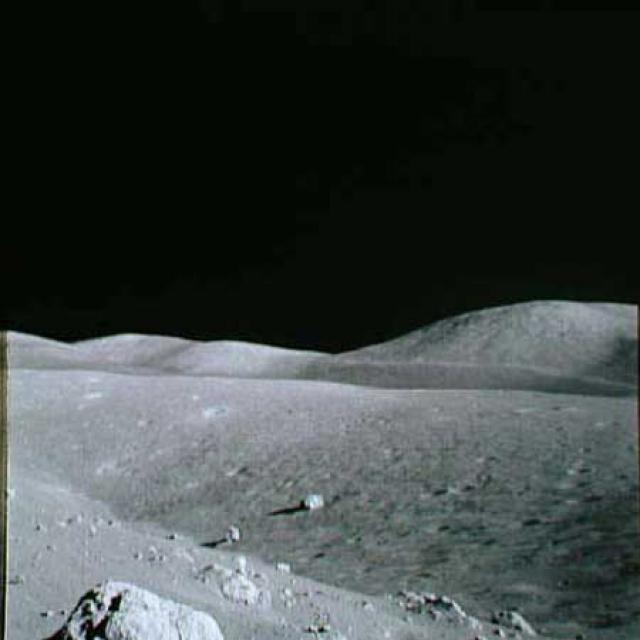rock: (47, 568, 226, 638), (388, 584, 482, 634), (211, 547, 272, 613), (488, 599, 533, 637), (300, 492, 330, 516), (226, 520, 244, 544)
